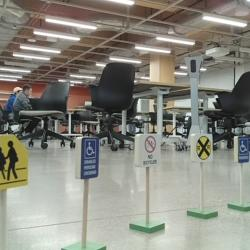disabled_persons_crossing: (75, 136, 99, 179)
handicap_parking: (234, 136, 249, 163)
no_bicycle: (135, 133, 160, 167)
railroad_crossing: (191, 133, 213, 163)
school_crossing: (0, 134, 28, 190)
